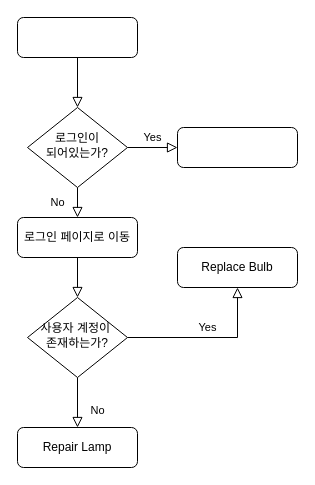
Image size: 315x485. Some labels were removed from this diagram. The shapes that lost their labels are listed below. From the top down, each one's centre as x and y in pixels, then its label:
At (x=77, y=37): "앱 처음 켜기".
At (x=237, y=147): "네비게이션을 통해 다른 페이지로 이동".
